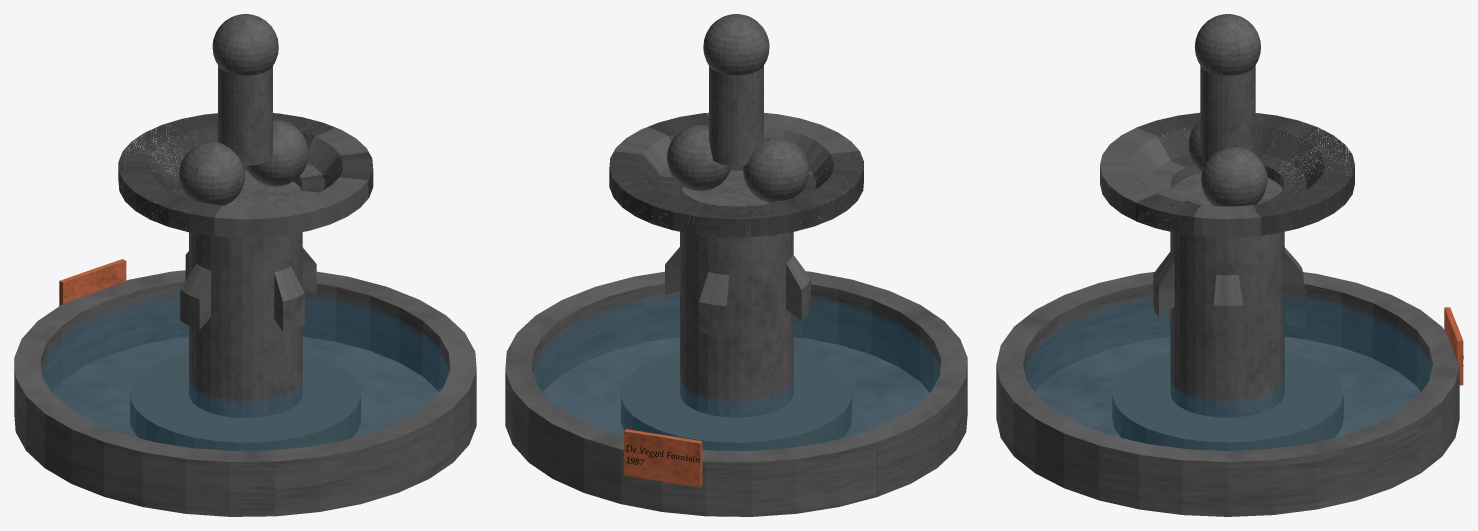
Rendered from Fountain.fbx.
3 views of the same model, side by side, from view 1: azimuth 30°, elevation 25°; view 2: azimuth 150°, elevation 25°; view 3: azimuth 270°, elevation 25° (orthographic).
Visible parts, largest first — view 1: Cylinder, Cylinder.002, Cylinder.004, Cylinder.001, Cylinder.003, Sphere.001, Sphere.002, Sphere, Cube; view 2: Cylinder, Cylinder.002, Cylinder.004, Cylinder.001, Cylinder.003, Cube, Sphere.001, Sphere.002, Sphere; view 3: Cylinder, Cylinder.002, Cylinder.004, Cylinder.001, Cylinder.003, Sphere.002, Sphere, Cube.
Boxes of the visible parts, x1,y1,x2,y2 form: Cylinder: (14, 270, 476, 516); Cylinder.002: (118, 113, 373, 417); Cylinder.004: (42, 297, 448, 450); Cylinder.001: (130, 351, 360, 450); Cylinder.003: (218, 65, 272, 165); Sphere.001: (179, 142, 244, 205); Sphere.002: (212, 14, 278, 75); Sphere: (245, 120, 308, 186); Cube: (59, 259, 126, 305); Cylinder: (505, 271, 967, 516); Cylinder.002: (609, 112, 863, 417); Cylinder.004: (533, 296, 939, 450); Cylinder.001: (621, 351, 851, 450); Cylinder.003: (709, 66, 763, 165); Cube: (624, 429, 702, 487); Sphere.001: (743, 137, 809, 202); Sphere.002: (703, 14, 769, 75); Sphere: (667, 125, 731, 191); Cylinder: (996, 272, 1459, 516); Cylinder.002: (1100, 112, 1354, 417); Cylinder.004: (1025, 298, 1430, 450); Cylinder.001: (1112, 351, 1343, 450); Cylinder.003: (1200, 65, 1255, 161); Sphere.002: (1194, 14, 1260, 75); Sphere: (1201, 147, 1267, 206); Cube: (1444, 307, 1463, 385).
Size of the model in its own units: 3074 by 2967 by 3100.
